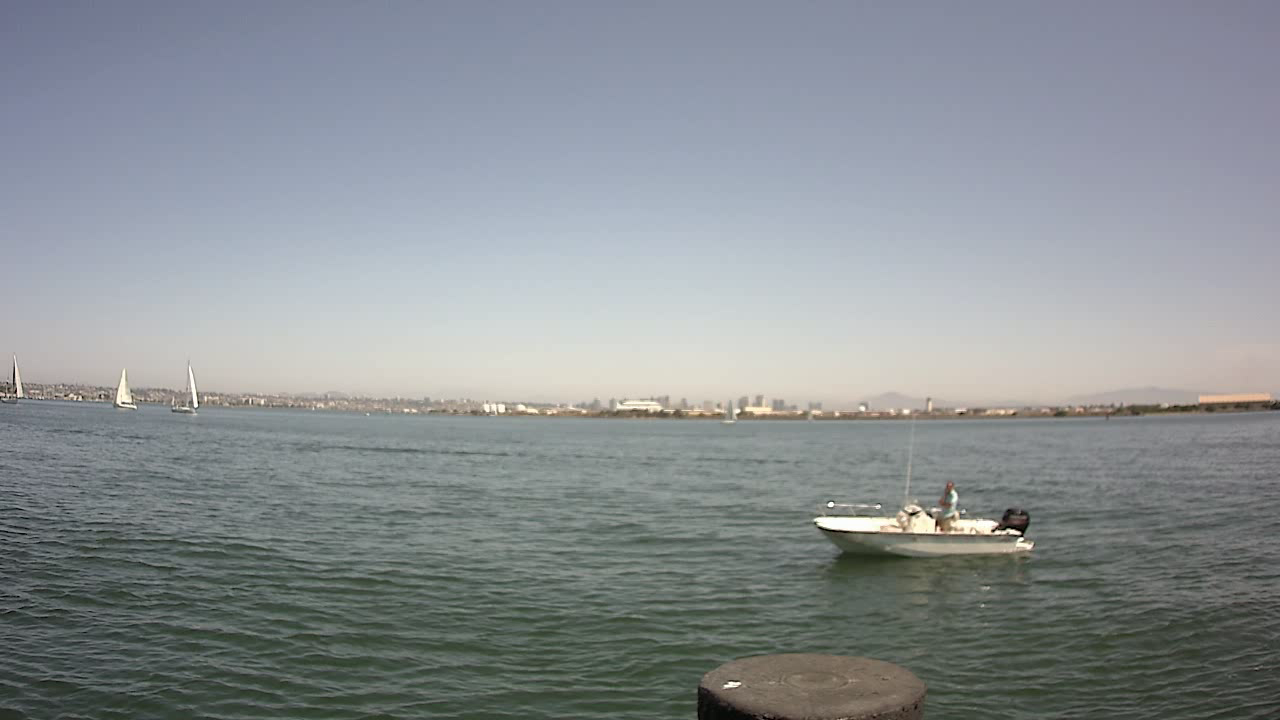target: (810, 471, 1039, 560)
